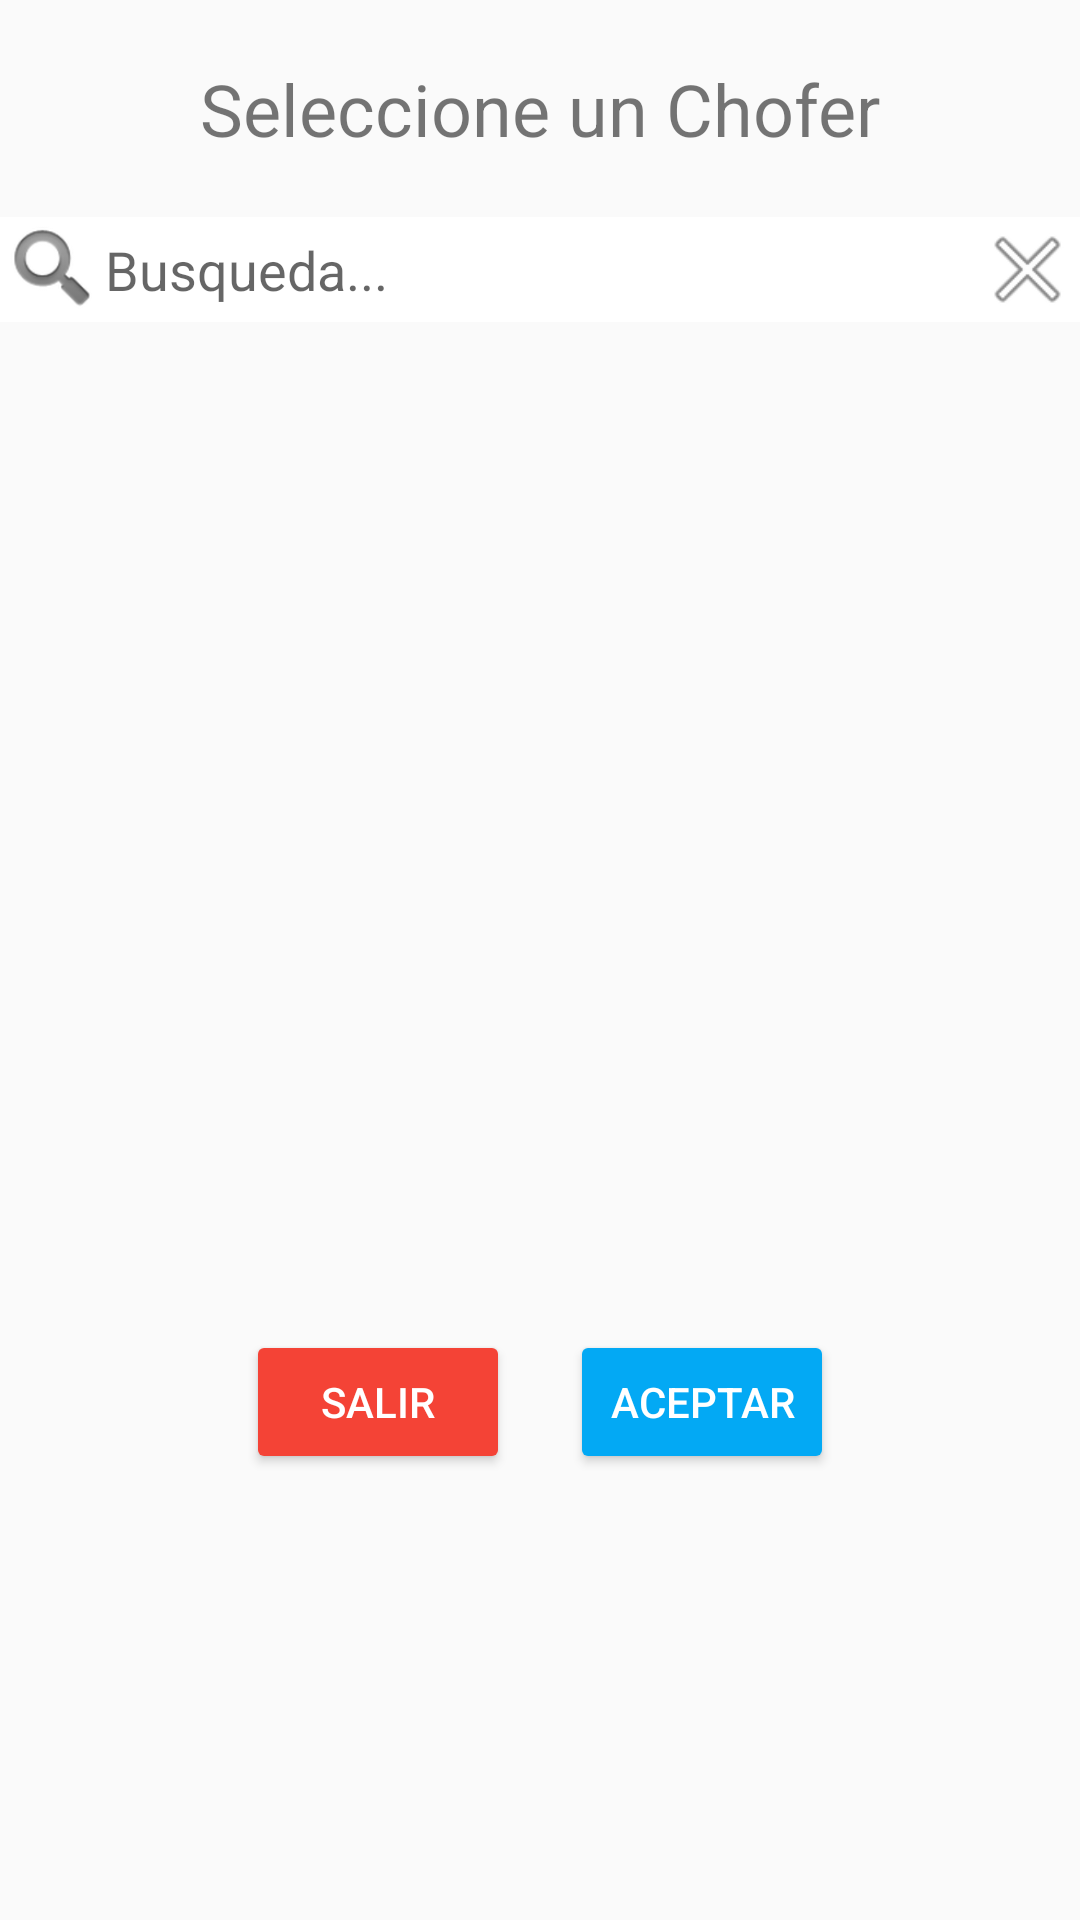

Icon bounding boxes for this 1080 × 1920 phone screenshot, format (x1, y1, x2, y2):
close clear cancel: (995, 237, 1060, 302)
search category: (14, 230, 90, 306)
